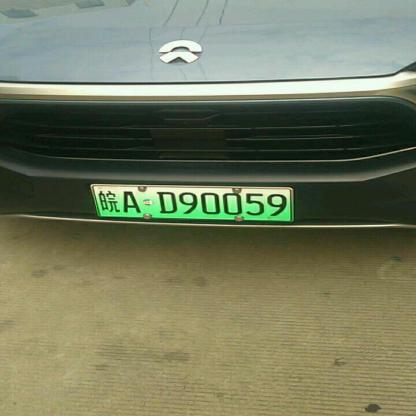lp: (91, 186, 293, 219)
